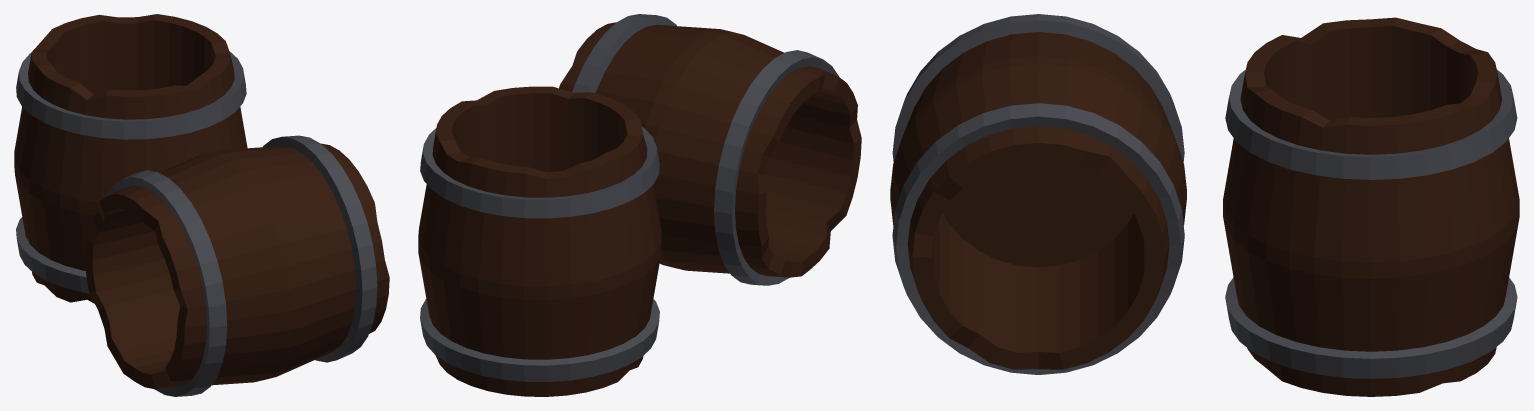
File: Barrel2.fbx
3 renders of one model, left to right at view 1: azimuth 30°, elevation 25°; view 2: azimuth 150°, elevation 25°; view 3: azimuth 270°, elevation 25°, orthographic. The views are drawn at different scales.
Visible parts, largest first — view 1: Cylinder.002, Cylinder, Cylinder.003, Cylinder.001; view 2: Cylinder, Cylinder.002, Cylinder.001, Cylinder.003; view 3: Cylinder, Cylinder.002, Cylinder.003, Cylinder.001.
Part boxes in pixels (x1,y1,x2,y2): Cylinder.002: [85, 143, 389, 388]; Cylinder: [14, 14, 247, 303]; Cylinder.003: [107, 135, 377, 396]; Cylinder.001: [16, 51, 246, 293]; Cylinder: [418, 86, 661, 396]; Cylinder.002: [559, 22, 861, 277]; Cylinder.001: [420, 127, 659, 381]; Cylinder.003: [572, 14, 839, 285]; Cylinder: [1223, 17, 1519, 396]; Cylinder.002: [890, 32, 1186, 369]; Cylinder.003: [892, 14, 1184, 374]; Cylinder.001: [1225, 69, 1517, 378].
Size of the model in its own units: 302 by 271 by 563.
